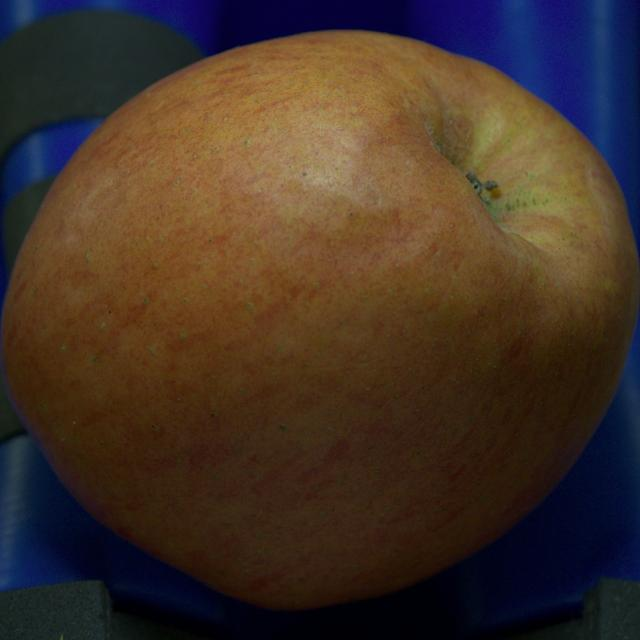apple: (0, 31, 639, 609)
